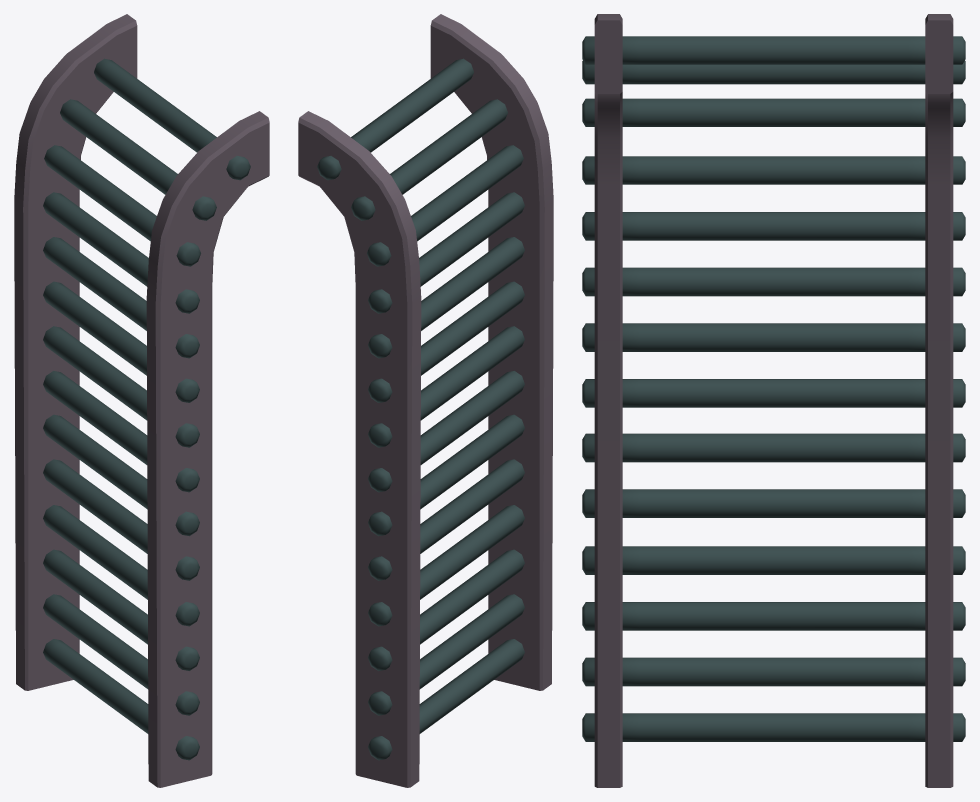
Rendered from GB_129_ladder_var03_var04.glb.
3 views of the same model, side by side, from view 1: azimuth 30°, elevation 25°; view 2: azimuth 150°, elevation 25°; view 3: azimuth 270°, elevation 25° (orthographic). The views are drawn at different scales.
Parts seen in each view (by area): view 1: Ladder129Var0304; view 2: Ladder129Var0304; view 3: Ladder129Var0304.
Boxes of the visible parts, x1,y1,x2,y2 form: Ladder129Var0304: (14, 14, 269, 787); Ladder129Var0304: (298, 14, 553, 787); Ladder129Var0304: (582, 14, 965, 787).
Size of the model in its own units: 0.4723 by 2.57 by 1.11.
